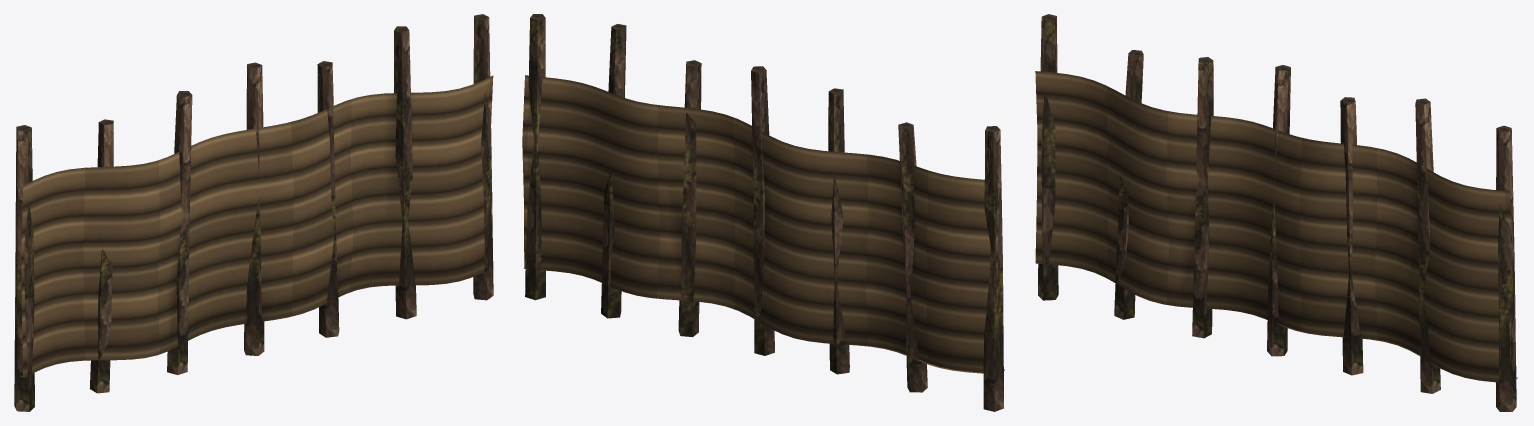
Rendered from fence_wattle.glb.
3 views of the same model, side by side, from view 1: azimuth 30°, elevation 25°; view 2: azimuth 150°, elevation 25°; view 3: azimuth 330°, elevation 25° (orthographic).
Parts seen in each view (by area): view 1: fence_wattle; view 2: fence_wattle; view 3: fence_wattle.
Part boxes in pixels (<box>): fence_wattle: <box>14,14,493,411</box>; fence_wattle: <box>522,14,1004,411</box>; fence_wattle: <box>1035,14,1517,411</box>.
Bounding box in the file's own units: 2.01 × 1.17 × 0.1442.
2 materials, 2 textured.
